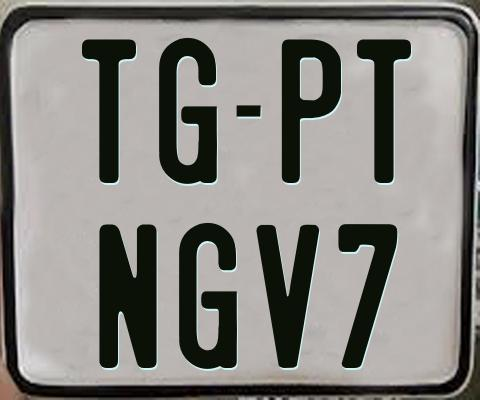7: (335, 222, 399, 371)
G: (179, 223, 241, 375), (159, 35, 219, 183)
N: (96, 222, 159, 366)
P: (281, 36, 346, 183)
T: (82, 39, 142, 188), (354, 36, 414, 182)
V: (256, 223, 323, 368)
